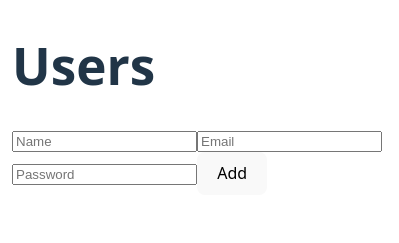
Test case: creates a new user
Step 1. Type "Pedro" into the field with placeholder "Name" → (104, 141), box [12,131,197,152]
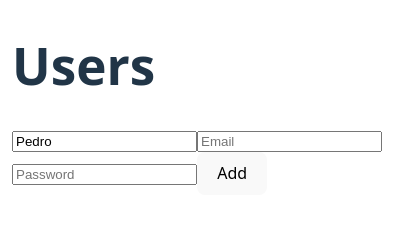
Step 2. Type "pedro@mail.com" into the field with placeholder "Email" → (290, 141), box [197,131,382,152]
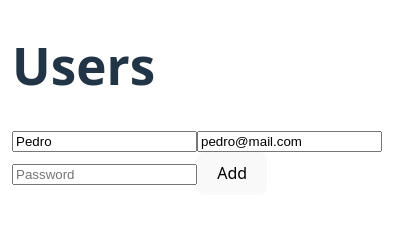
Step 3. Type "123456" into the password field with placeholder "Password" → (104, 175), box [12,164,197,186]
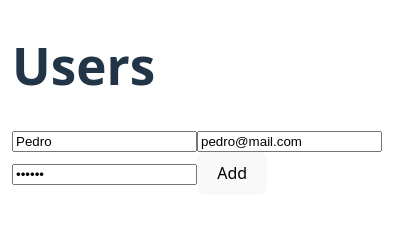
Step 4. Click the button "Add" → (232, 174), box [197,152,267,195]
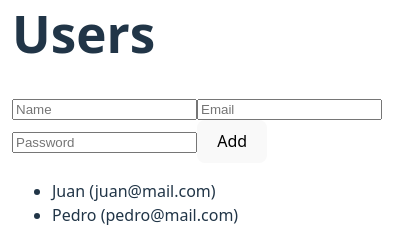
expect the list item "Pedro (pedro@mail.com)" is shown: met, box [52,204,238,226]
